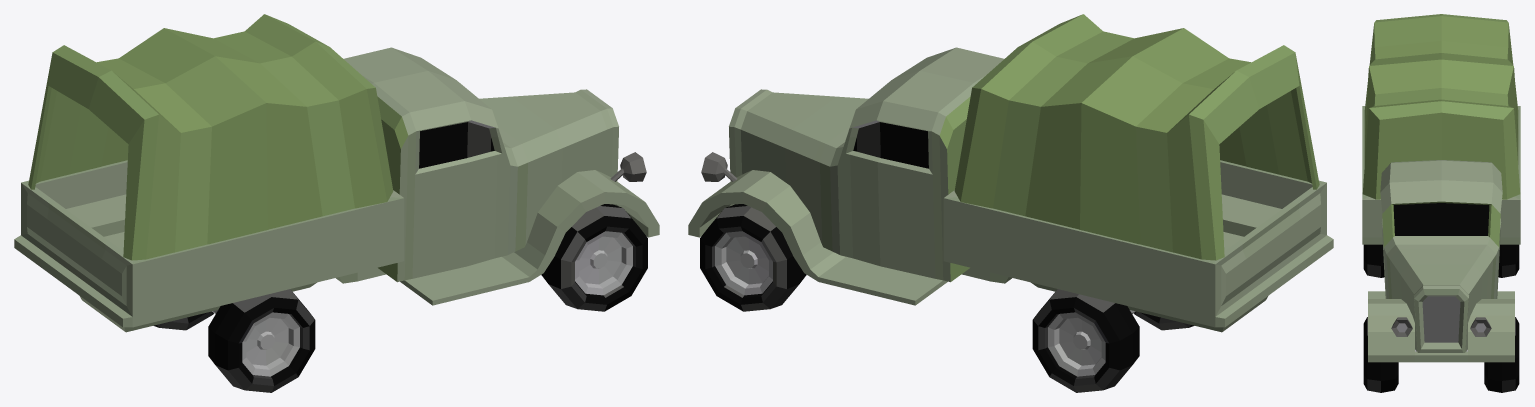
3 renders of one model, left to right at view 1: azimuth 30°, elevation 25°; view 2: azimuth 150°, elevation 25°; view 3: azimuth 270°, elevation 25°, orthographic. The views are drawn at different scales.
Visible parts, largest first — view 1: TruckBackCover, TruckFront, TruckBack, TruckBackWheels, TruckFrontWheels; view 2: TruckBackCover, TruckFront, TruckBack, TruckBackWheels, TruckFrontWheels; view 3: TruckFront, TruckBackCover, TruckFrontWheels, TruckBack, TruckBackWheels.
Part boxes in pixels (x1,y1,x2,y2): TruckBackCover: (28,14,393,260); TruckFront: (344,47,659,305); TruckBack: (14,160,404,332); TruckBackWheels: (153,289,315,392); TruckFrontWheels: (541,204,647,311); TruckBackCover: (954,14,1319,260); TruckFront: (688,47,1003,305); TruckBack: (943,160,1333,332); TruckBackWheels: (1032,289,1194,392); TruckFrontWheels: (700,204,806,311); TruckFront: (1368,160,1514,362); TruckBackCover: (1362,14,1520,199); TruckFrontWheels: (1363,317,1519,392); TruckBack: (1362,106,1520,244); TruckBackWheels: (1363,244,1519,277).
Bounding box in the file's own units: 3.59 × 1.98 × 1.28.
